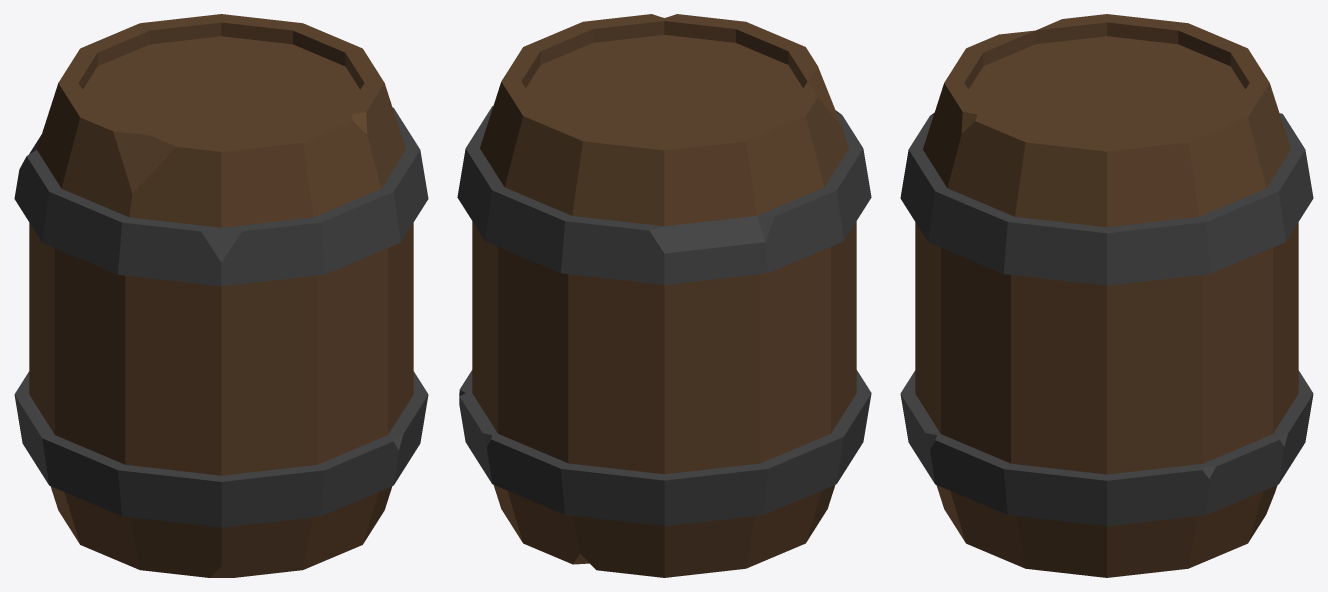
File: Barrel.fbx
3 views of the same model, side by side, from view 1: azimuth 30°, elevation 25°; view 2: azimuth 150°, elevation 25°; view 3: azimuth 270°, elevation 25° (orthographic).
Parts seen in each view (by area): view 1: Cylinder, Cylinder.001; view 2: Cylinder, Cylinder.001; view 3: Cylinder, Cylinder.001.
Boxes of the visible parts, x1=… form: Cylinder: x1=29, y1=14, x2=413, y2=577; Cylinder.001: x1=14, y1=107, x2=428, y2=527; Cylinder: x1=472, y1=14, x2=856, y2=577; Cylinder.001: x1=457, y1=106, x2=871, y2=526; Cylinder: x1=915, y1=14, x2=1298, y2=577; Cylinder.001: x1=900, y1=113, x2=1313, y2=526.
Bounding box in the file's own units: 90.02 × 103 × 90.02.
